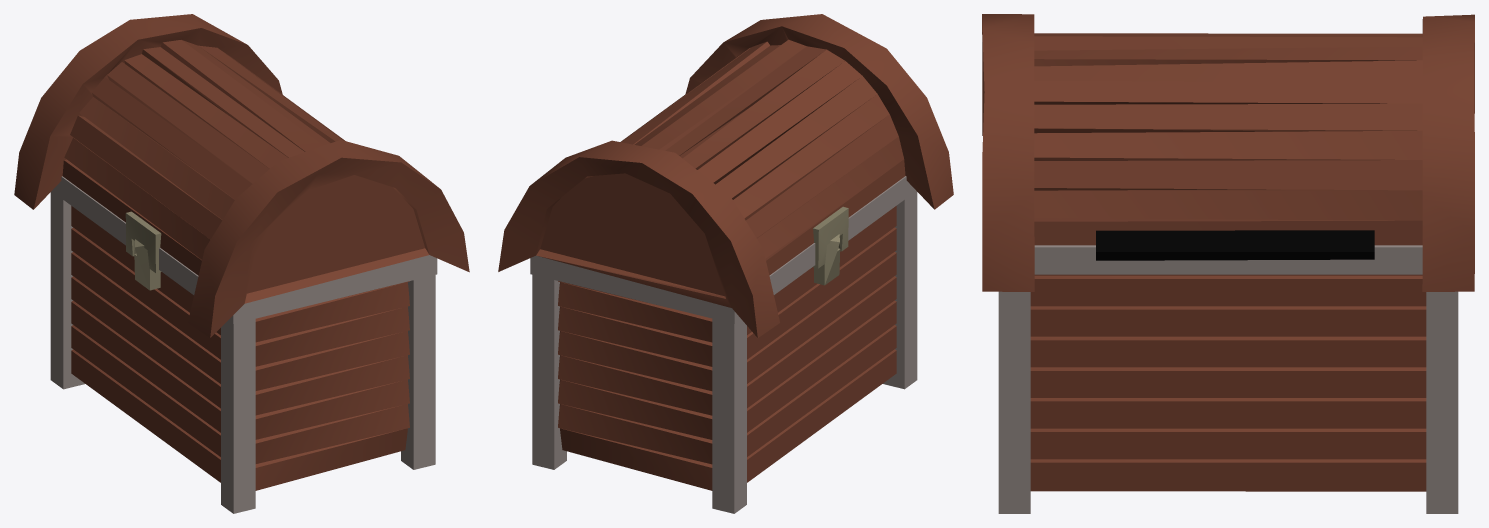
The model's file is chestOPT.fbx.
The picture shows the model from 3 angles, left to right: view 1: azimuth 30°, elevation 25°; view 2: azimuth 150°, elevation 25°; view 3: azimuth 270°, elevation 25°; orthographic projection. The views are drawn at different scales.
Visible parts, largest first — view 1: cap, chest; view 2: cap, chest; view 3: chest, cap.
Part boxes in pixels (x1,y1,x2,y2): cap: (14, 14, 469, 337); chest: (50, 176, 437, 513); cap: (498, 14, 953, 337); chest: (530, 176, 917, 513); chest: (998, 230, 1458, 513); cap: (982, 14, 1474, 291).
Bounding box in the file's own units: 282 × 345 × 365.
